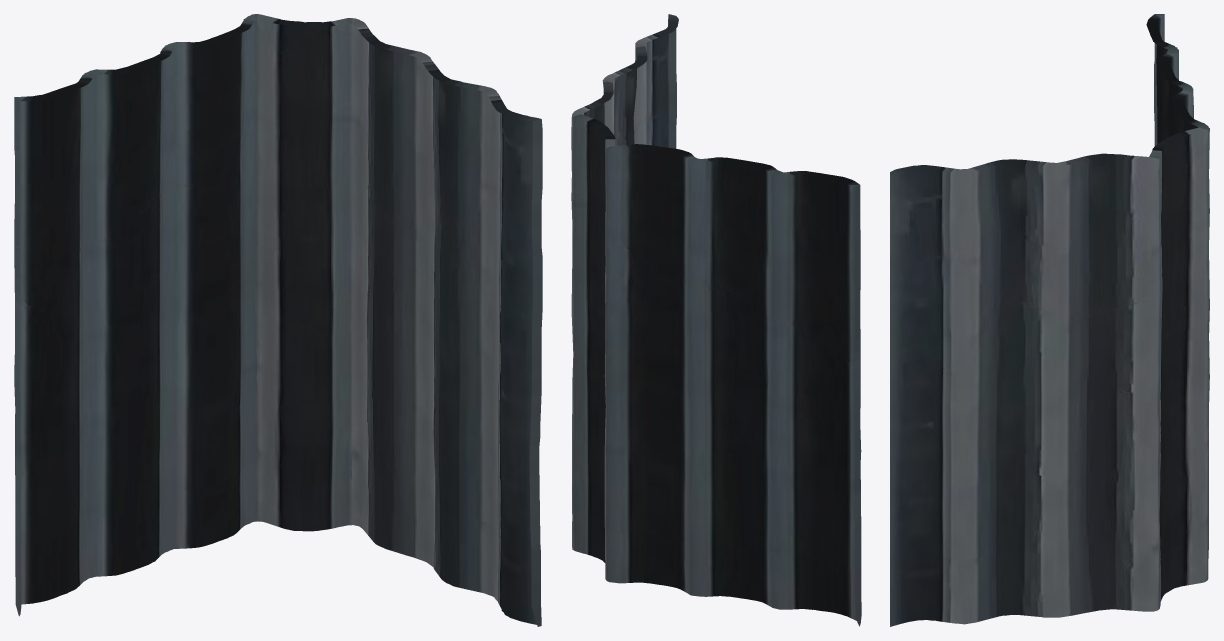
Rendered from z20-167779-405228-h1-yup-uvflip-v3-world.glb.
The picture shows the model from 3 angles, left to right: view 1: azimuth 30°, elevation 25°; view 2: azimuth 150°, elevation 25°; view 3: azimuth 270°, elevation 25°; orthographic projection. The views are drawn at different scales.
Size of the model in its own units: 18.4 by 24.28 by 15.32.
Materials: 1 (1 with a texture image).
